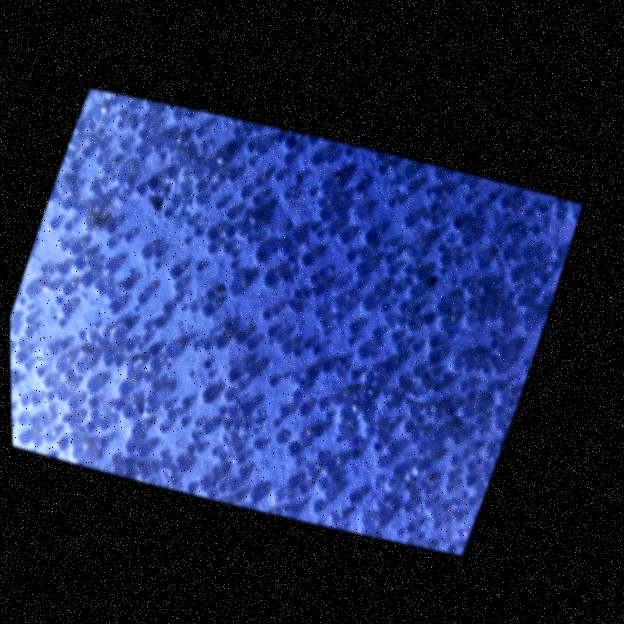GrassBeadSeg: (57, 248, 564, 498), (17, 252, 565, 473), (121, 198, 562, 469), (88, 235, 558, 422), (100, 164, 469, 393), (100, 163, 343, 462), (71, 203, 343, 465), (257, 207, 558, 430), (245, 254, 531, 487), (16, 222, 332, 425), (49, 236, 473, 386), (87, 209, 476, 371), (171, 266, 541, 433), (285, 256, 557, 482), (318, 182, 509, 493), (217, 257, 464, 490), (86, 260, 382, 451), (104, 238, 316, 504), (245, 289, 550, 473), (97, 285, 475, 431), (120, 279, 440, 450), (177, 274, 460, 467), (223, 269, 520, 440), (210, 136, 339, 524), (133, 243, 337, 475), (195, 196, 463, 371), (147, 228, 355, 451), (94, 209, 475, 326), (228, 197, 361, 521), (60, 202, 510, 296), (56, 319, 358, 459), (310, 249, 531, 437), (127, 268, 522, 373), (75, 208, 266, 423), (152, 264, 329, 488), (104, 272, 327, 441), (332, 352, 527, 537), (70, 300, 297, 458), (69, 246, 258, 434), (178, 250, 474, 368), (224, 210, 376, 437), (153, 220, 375, 370), (205, 159, 346, 385), (41, 266, 231, 431), (117, 244, 325, 392), (64, 305, 291, 433), (104, 166, 226, 392), (100, 318, 346, 427), (193, 250, 302, 479), (85, 378, 381, 460), (296, 304, 412, 512), (121, 233, 422, 313), (111, 400, 360, 496), (316, 313, 503, 430), (75, 308, 214, 465), (206, 371, 398, 483), (120, 352, 431, 420), (291, 244, 375, 495), (275, 326, 443, 442), (279, 272, 360, 504), (55, 444, 322, 513), (329, 303, 448, 457), (197, 394, 352, 503), (211, 227, 360, 334), (318, 349, 440, 475), (65, 342, 295, 407), (309, 284, 387, 468), (251, 335, 334, 500), (14, 242, 81, 443), (254, 250, 313, 455), (154, 261, 236, 402), (210, 366, 312, 478), (498, 202, 577, 341), (318, 318, 504, 376), (320, 329, 502, 386), (252, 179, 409, 244), (486, 216, 561, 348), (164, 341, 261, 439), (193, 389, 263, 498), (228, 283, 470, 314), (237, 380, 399, 423), (74, 124, 190, 179), (466, 207, 576, 264), (144, 340, 211, 433), (331, 312, 386, 418), (226, 372, 288, 458), (266, 326, 295, 502), (173, 111, 225, 209), (195, 127, 261, 204), (62, 414, 342, 432), (298, 343, 368, 415), (388, 285, 528, 320), (275, 332, 322, 434), (505, 203, 547, 316), (273, 435, 343, 502), (17, 273, 88, 338), (174, 420, 237, 493), (45, 392, 133, 443), (282, 153, 346, 223), (123, 295, 173, 383), (381, 216, 480, 260), (387, 177, 462, 234), (60, 290, 215, 317), (478, 277, 528, 359), (481, 231, 544, 294), (314, 409, 384, 462), (62, 135, 99, 234), (130, 426, 194, 483), (103, 200, 205, 235), (274, 144, 336, 200), (406, 189, 445, 275), (294, 173, 363, 221), (354, 254, 444, 290), (104, 287, 143, 369), (69, 141, 127, 196), (379, 157, 465, 194), (308, 147, 370, 197), (324, 321, 358, 411), (391, 187, 483, 220), (49, 198, 105, 251), (289, 230, 394, 257), (417, 405, 498, 440), (226, 382, 303, 418), (148, 359, 188, 425), (78, 287, 117, 353), (198, 406, 226, 491), (79, 446, 149, 479), (422, 435, 459, 496), (226, 142, 261, 206), (279, 366, 317, 424), (140, 247, 269, 264), (164, 139, 204, 192), (226, 124, 294, 155), (65, 399, 107, 449), (108, 304, 151, 352), (162, 176, 191, 245), (133, 446, 264, 461), (487, 193, 562, 219), (360, 295, 444, 318), (23, 273, 93, 300), (29, 260, 75, 300), (174, 109, 208, 163), (156, 288, 186, 349), (487, 275, 526, 321), (136, 178, 181, 217), (432, 374, 456, 445), (268, 376, 300, 427), (97, 123, 136, 164), (490, 286, 517, 345), (193, 420, 240, 453), (133, 116, 166, 161), (274, 133, 296, 200), (200, 367, 240, 403), (172, 282, 214, 316), (111, 316, 160, 345), (382, 254, 394, 372), (291, 229, 302, 357), (362, 159, 410, 185), (364, 288, 414, 312), (353, 302, 405, 325), (94, 160, 123, 201), (452, 497, 473, 551), (159, 398, 190, 433), (16, 332, 83, 348), (354, 297, 380, 338), (186, 481, 242, 500), (35, 369, 49, 443), (476, 383, 500, 425), (471, 362, 492, 409), (455, 484, 482, 520), (129, 377, 155, 414), (24, 363, 61, 389), (357, 348, 383, 384), (439, 301, 471, 330), (374, 495, 416, 517), (365, 231, 403, 254), (332, 251, 355, 288), (346, 262, 367, 302), (463, 381, 503, 401), (446, 254, 468, 289), (456, 176, 481, 206), (56, 241, 77, 276), (33, 410, 53, 445), (472, 445, 492, 479), (147, 318, 164, 357), (409, 411, 473, 421), (379, 283, 401, 312), (394, 511, 418, 536), (120, 177, 144, 201), (422, 499, 446, 523), (469, 420, 480, 469), (327, 361, 355, 380), (414, 319, 433, 347), (436, 522, 453, 553), (389, 479, 429, 492), (408, 509, 429, 532), (453, 499, 474, 522), (234, 455, 244, 502), (234, 395, 261, 412), (385, 265, 426, 276), (402, 215, 414, 252), (386, 479, 399, 511), (460, 279, 473, 311), (475, 429, 482, 487), (151, 451, 166, 478), (360, 506, 379, 527), (410, 368, 419, 412), (410, 337, 436, 352), (149, 138, 173, 154), (311, 345, 326, 370), (482, 428, 495, 455), (336, 287, 350, 312), (470, 385, 491, 401), (298, 405, 307, 441), (338, 232, 374, 241), (418, 375, 437, 392), (354, 267, 369, 288), (374, 376, 405, 386), (476, 393, 507, 403), (39, 416, 51, 441), (354, 386, 377, 399), (408, 405, 432, 417), (431, 514, 449, 530), (358, 390, 386, 400), (397, 304, 428, 313), (332, 294, 346, 312), (371, 332, 398, 341), (13, 405, 53, 411), (394, 342, 419, 351), (383, 500, 394, 520), (396, 375, 405, 398), (54, 362, 74, 372), (391, 265, 398, 293), (28, 417, 47, 427), (344, 232, 350, 262), (62, 370, 70, 392), (12, 397, 26, 409), (62, 361, 80, 370), (368, 510, 382, 521), (382, 314, 404, 321), (72, 257, 83, 270), (421, 313, 432, 326), (32, 419, 37, 447), (487, 344, 494, 363), (31, 397, 50, 404), (384, 389, 397, 399), (409, 421, 415, 442), (464, 463, 470, 483), (499, 399, 506, 416), (175, 459, 186, 469), (402, 422, 412, 433), (415, 268, 424, 280), (406, 319, 414, 332), (321, 362, 331, 372), (460, 405, 471, 414), (411, 288, 419, 300), (244, 373, 258, 379), (400, 525, 409, 534), (439, 257, 449, 265), (464, 480, 475, 487), (363, 236, 374, 243), (298, 431, 307, 439), (395, 285, 403, 294), (445, 316, 451, 328), (25, 398, 34, 406), (492, 407, 498, 418), (129, 444, 135, 455), (340, 238, 349, 245), (69, 373, 75, 383), (123, 444, 129, 454), (472, 488, 479, 496), (347, 257, 355, 264), (73, 366, 80, 374), (54, 390, 60, 399), (54, 370, 64, 375), (63, 373, 68, 383), (366, 516, 370, 526), (81, 361, 84, 374), (356, 370, 359, 379), (60, 394, 65, 399), (411, 440, 417, 444), (387, 274, 395, 277), (343, 428, 346, 432)
